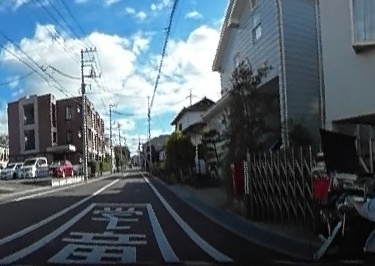person: (347, 59, 375, 255)
